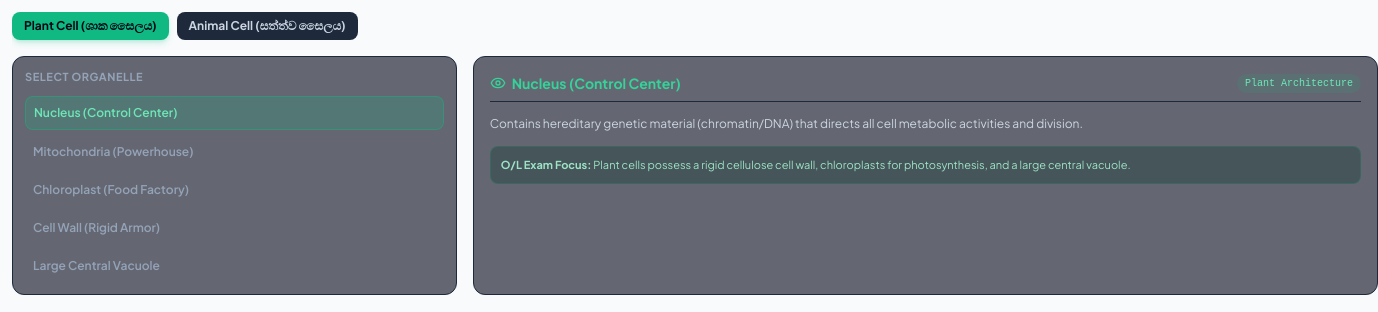
CellExplorer › Plant/Animal toggle works and plant-only organelles are hidden for animal cells
Click the button "Animal Cell (සත්ත්ව සෛලය)" at (267, 26), box [177,12,358,40]
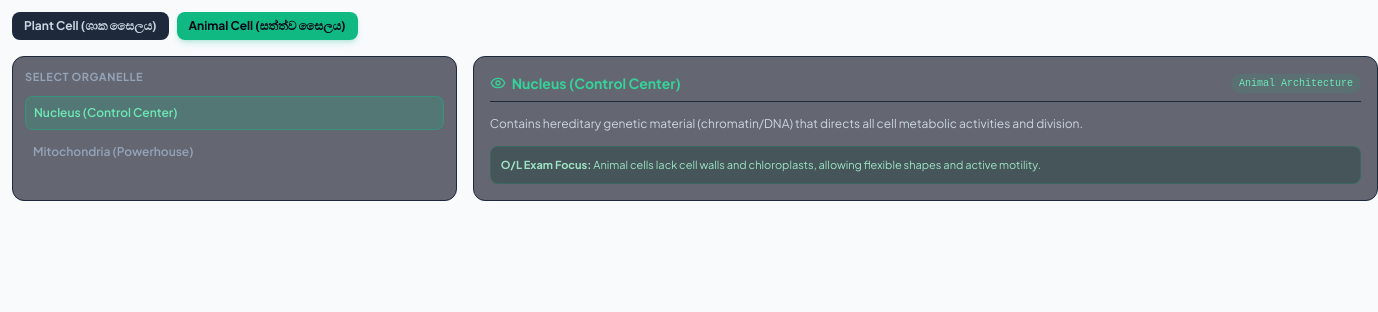
Expected: the text "Animal Architecture" is shown, [1231,74,1361,92]
Click the button "Plant Cell (ශාක සෛලය)" at (90, 26), box [12,12,169,40]
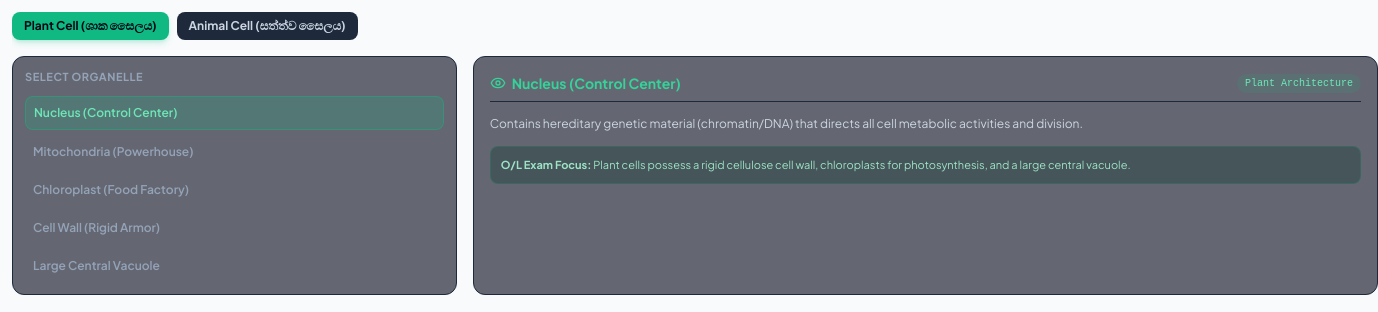
Expected: the text "Plant Architecture" is shown, [1237,74,1361,92]
